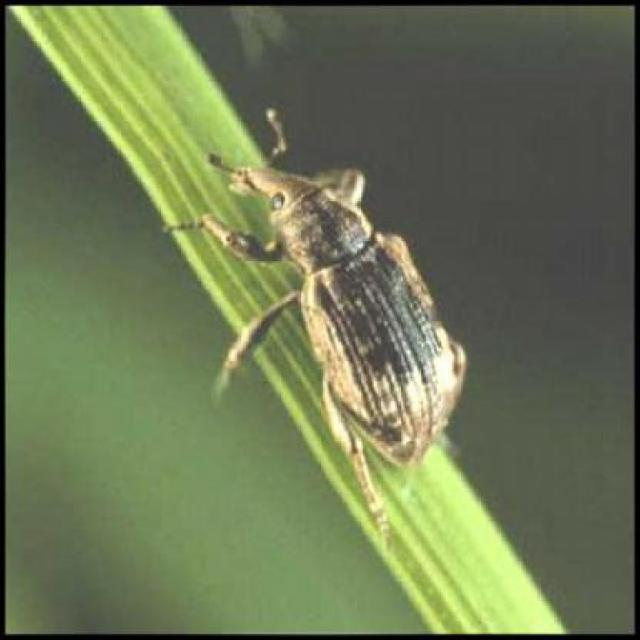rice-bug: (202, 115, 481, 472)
